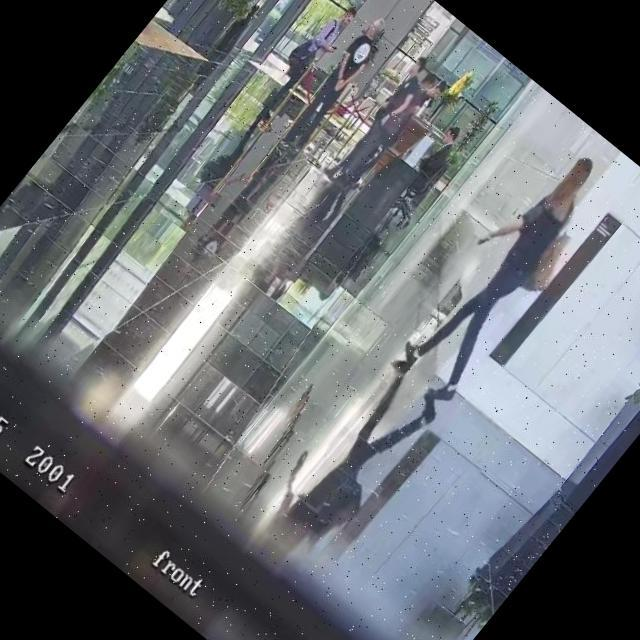person: (382, 137, 624, 410), (264, 13, 398, 168), (323, 53, 439, 189), (253, 0, 365, 130), (339, 70, 442, 190), (397, 120, 468, 201), (410, 74, 450, 120)
